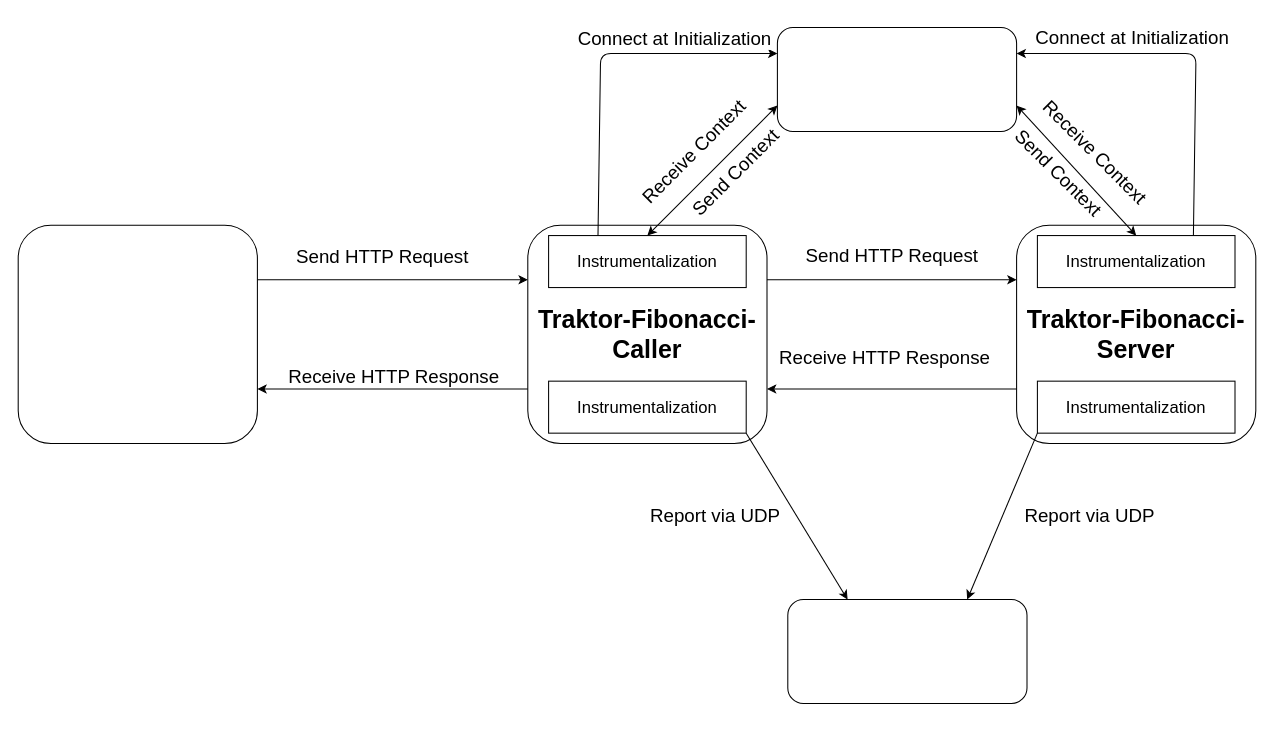
This 1274x731 diagram has some shape labels left out. Each missing label, with the centre of its shape:
HTTP-Client: pixel 137 334
Traktor-Agent: pixel 907 651
Traktor-Registry: pixel 896 79
